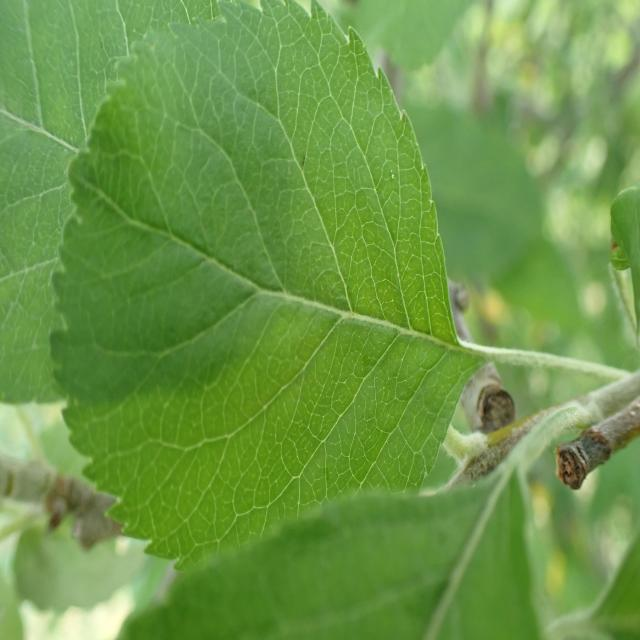healthy: (48, 1, 490, 571), (0, 0, 226, 409), (116, 472, 544, 640)
